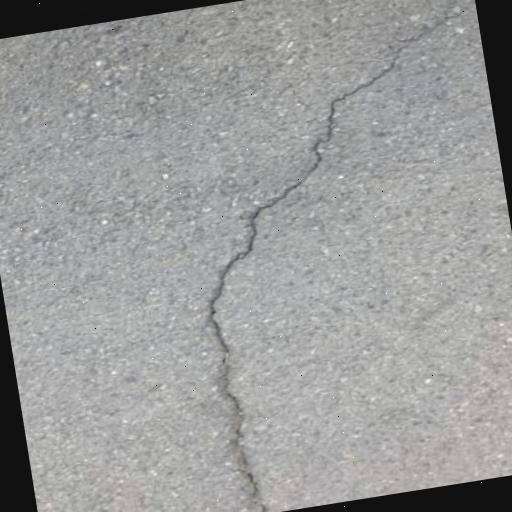spalling: (179, 0, 471, 508)
